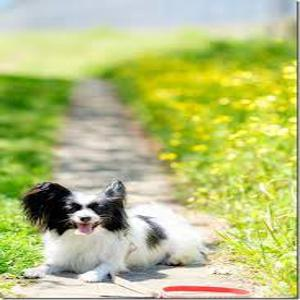yell: (19, 177, 217, 282)
